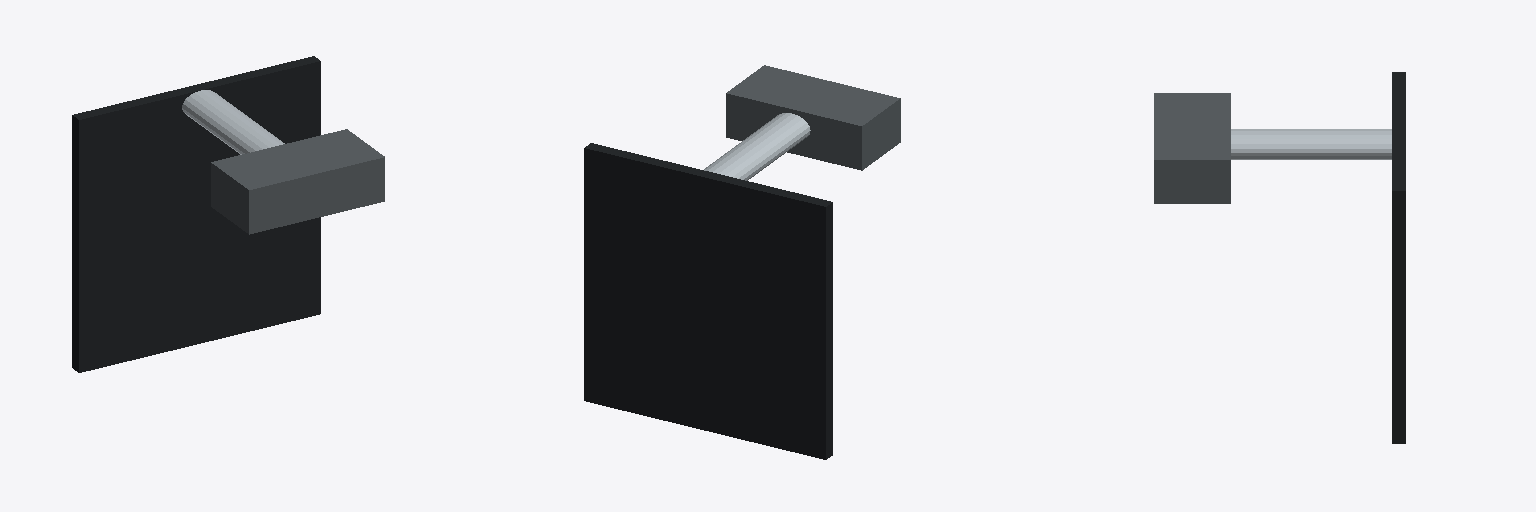
Rendered from bascula.obj.
3 renders of one model, left to right at view 1: azimuth 30°, elevation 25°; view 2: azimuth 150°, elevation 25°; view 3: azimuth 270°, elevation 25°, orthographic.
Visible parts, largest first — view 1: obj_0; view 2: obj_0; view 3: obj_0.
Boxes of the visible parts, box(x1,y1,x2,y2) form: obj_0: box(72, 56, 384, 372); obj_0: box(584, 65, 900, 459); obj_0: box(1154, 72, 1405, 443).
Size of the model in its own units: 40 by 40.66 by 36.